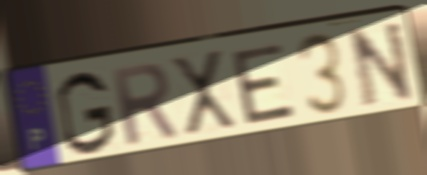3: (295, 30, 349, 118)
E: (228, 40, 298, 127)
G: (54, 69, 118, 159)
N: (345, 18, 417, 111)
R: (107, 60, 181, 149)
X: (168, 47, 240, 140)
